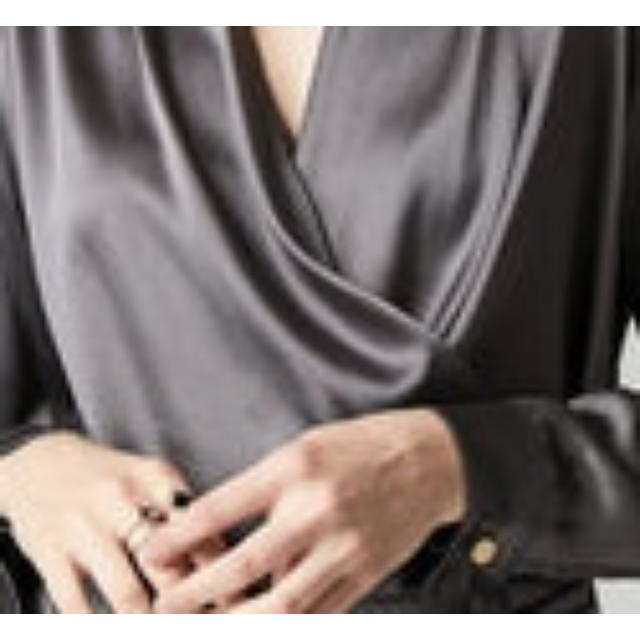silk: (0, 26, 640, 614)
